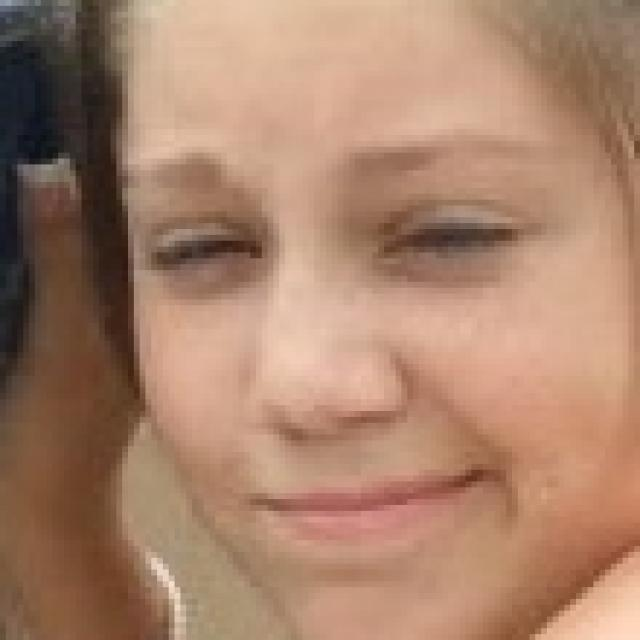Eyeclosed: (380, 202, 522, 278), (143, 220, 258, 280)
